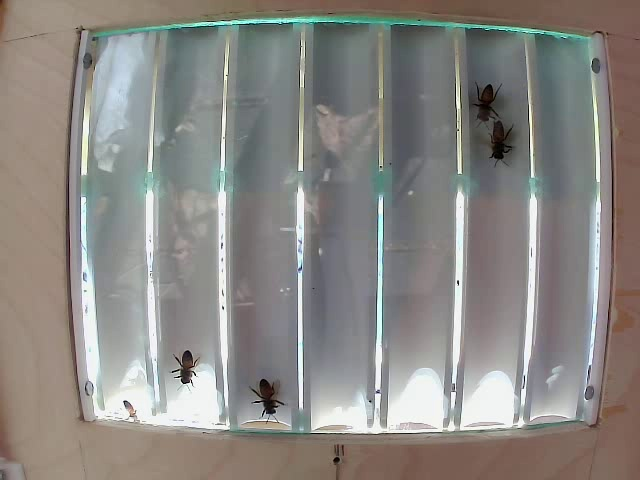bee: (157, 339, 209, 393), (251, 372, 295, 423), (475, 122, 509, 164), (466, 81, 491, 122)
